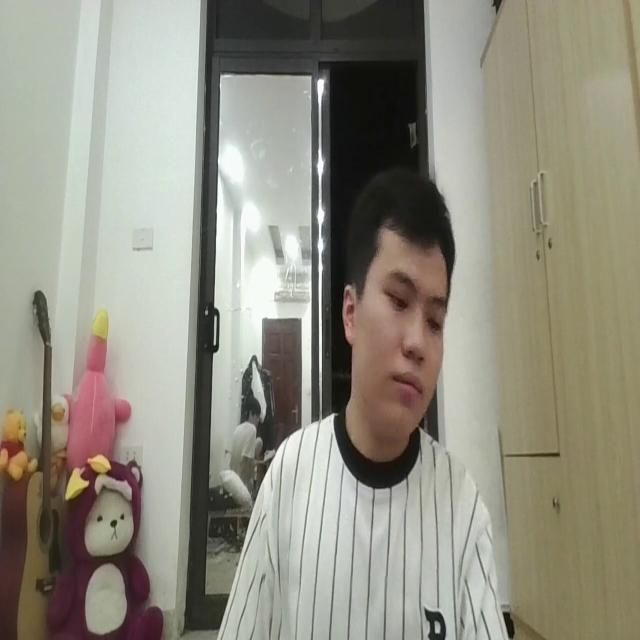student: (218, 168, 508, 640)
